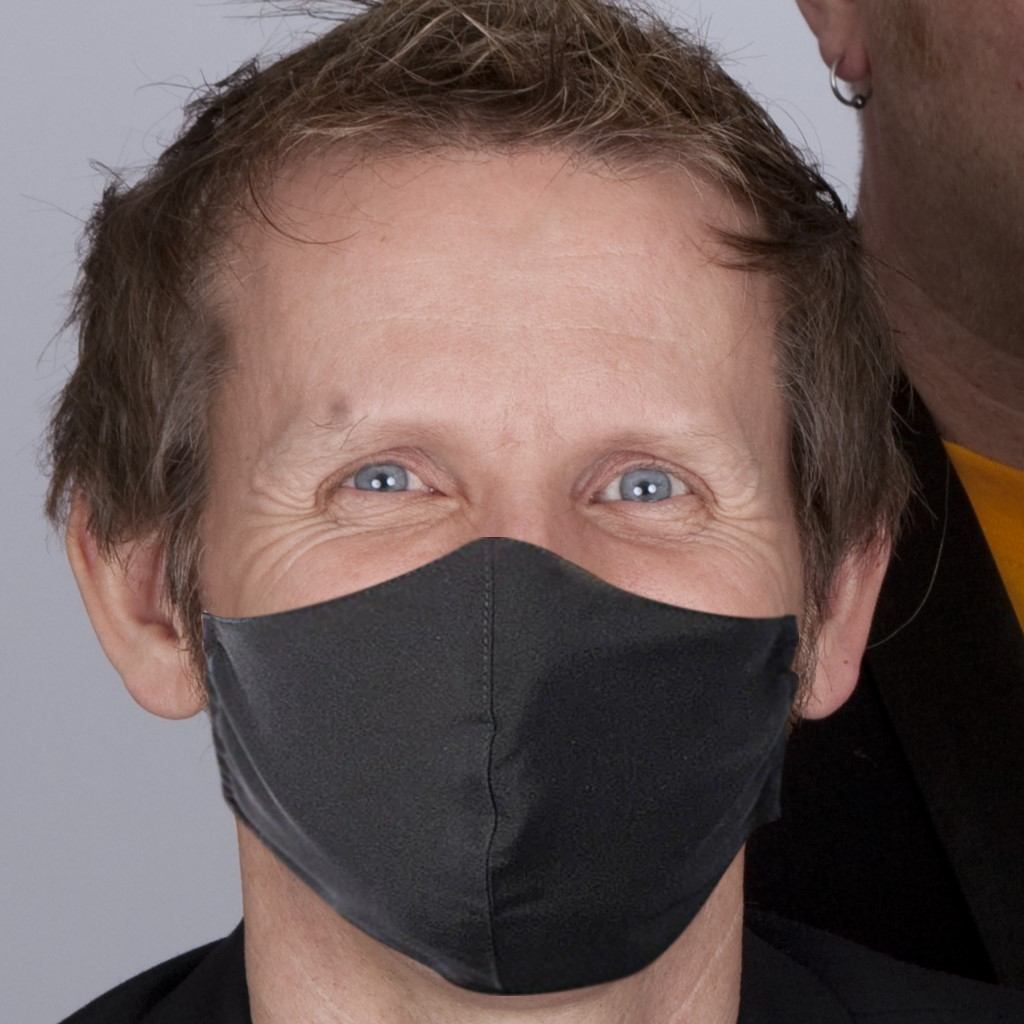con_mascara: (137, 138, 818, 972)
